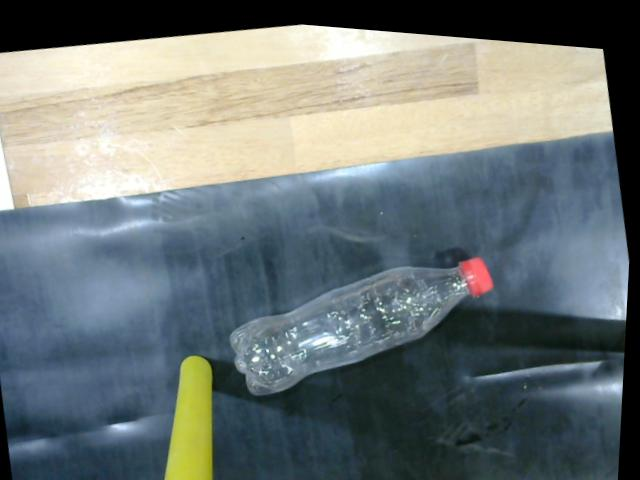bottle: (224, 245, 505, 402)
